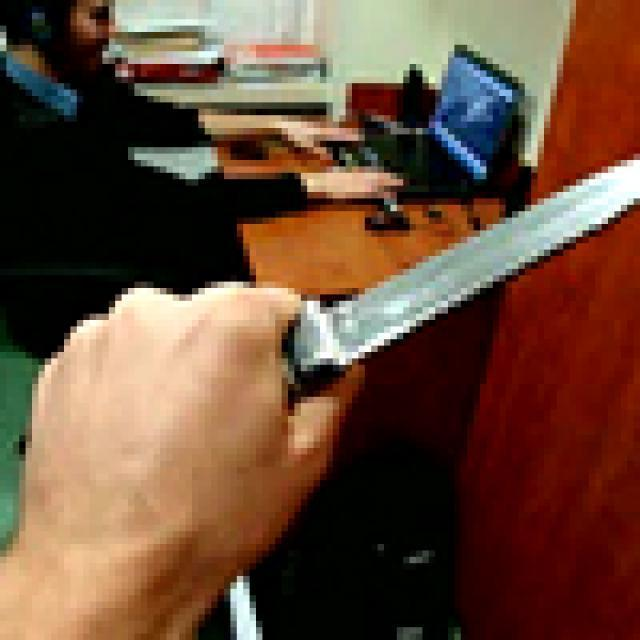knife: (186, 90, 634, 492)
